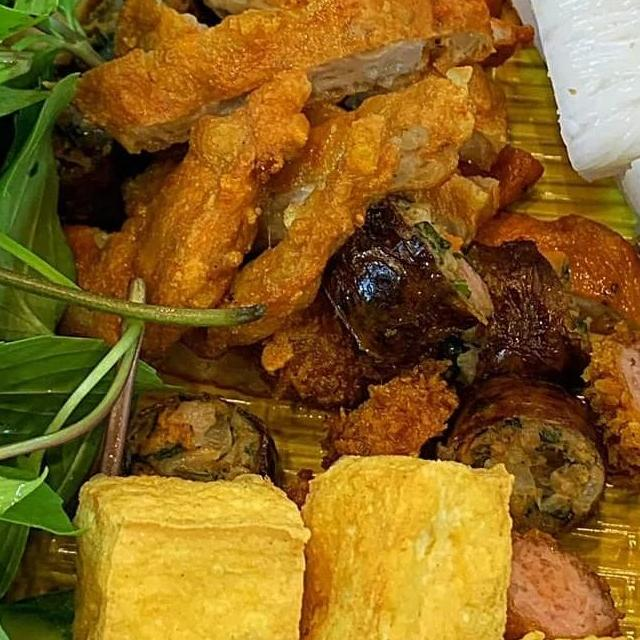bun dau: (0, 0, 640, 640)
cha com: (277, 0, 640, 619)
dau hu: (2, 5, 210, 328)
doi sun: (252, 282, 446, 562), (143, 430, 374, 640)
